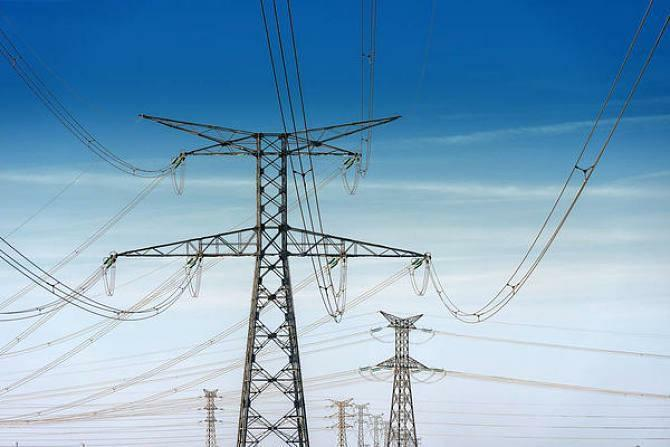power_tower: (125, 106, 422, 443), (362, 300, 437, 444), (314, 388, 361, 447), (199, 379, 228, 445)
